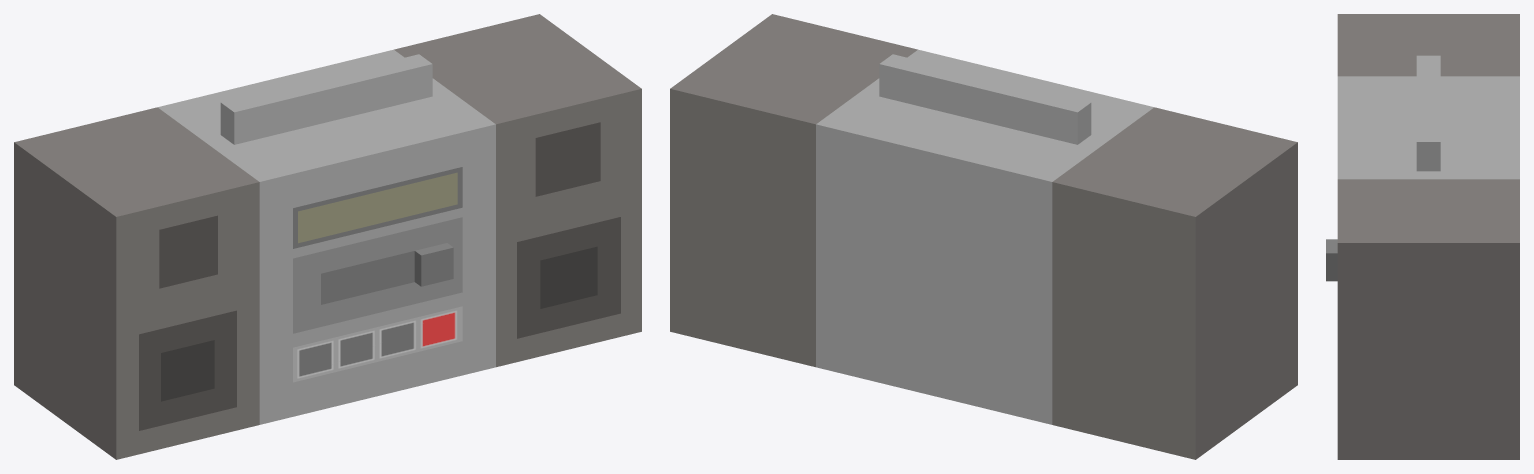
The model's file is Stereo.glb.
3 renders of one model, left to right at view 1: azimuth 30°, elevation 25°; view 2: azimuth 150°, elevation 25°; view 3: azimuth 270°, elevation 25°, orthographic. The views are drawn at different scales.
Parts seen in each view (by area): view 1: SI_Prop_Stero; view 2: SI_Prop_Stero; view 3: SI_Prop_Stero.
Part boxes in pixels (x1,y1,x2,y2): SI_Prop_Stero: [14, 14, 641, 459]; SI_Prop_Stero: [670, 14, 1297, 459]; SI_Prop_Stero: [1326, 14, 1519, 459].
Bounding box in the file's own units: 0.0157 × 0.00786 × 0.00561.
1 material, 1 textured.
